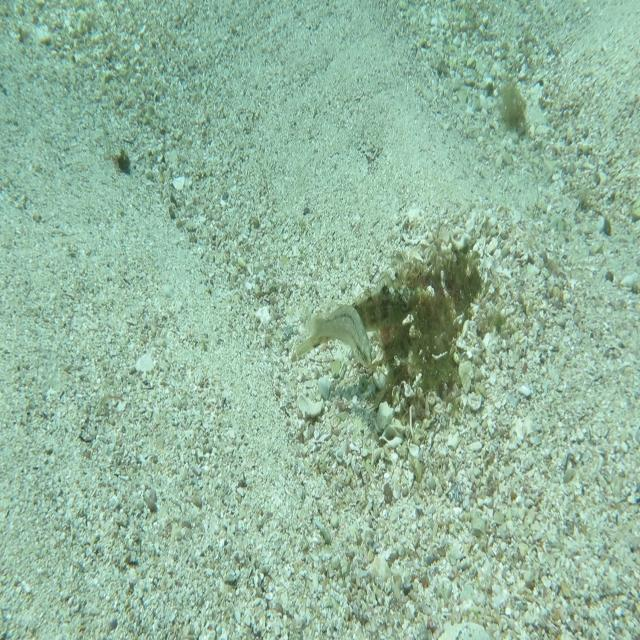ROLL: (294, 273, 420, 359)
female: (299, 297, 373, 370)
nest: (368, 230, 482, 421)
